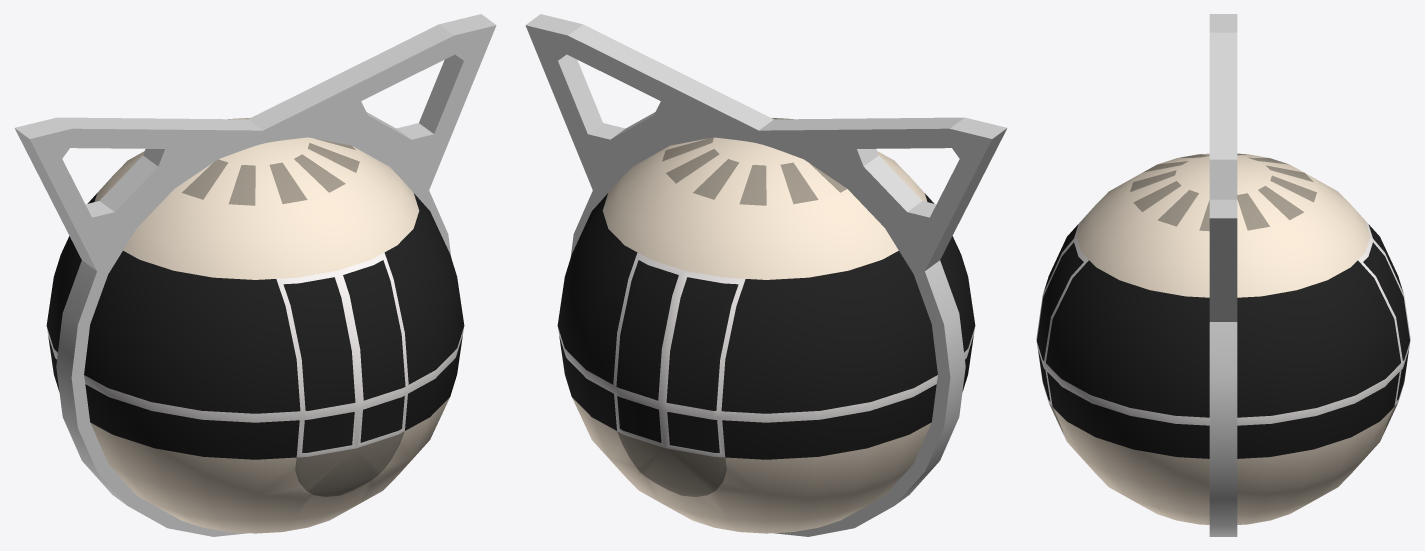
Rendered from carrinhos_sozinho.obj.
The picture shows the model from 3 angles, left to right: view 1: azimuth 30°, elevation 25°; view 2: azimuth 150°, elevation 25°; view 3: azimuth 270°, elevation 25°; orthographic projection. The views are drawn at different scales.
Visible parts, largest first — view 1: Nimbasa_City.001; view 2: Nimbasa_City.001; view 3: Nimbasa_City.001.
Part boxes in pixels (x1,y1,x2,y2): Nimbasa_City.001: [14, 14, 496, 536]; Nimbasa_City.001: [525, 14, 1007, 536]; Nimbasa_City.001: [1036, 14, 1410, 536].
Bounding box in the file's own units: 0.6286 × 0.5784 × 0.487.
